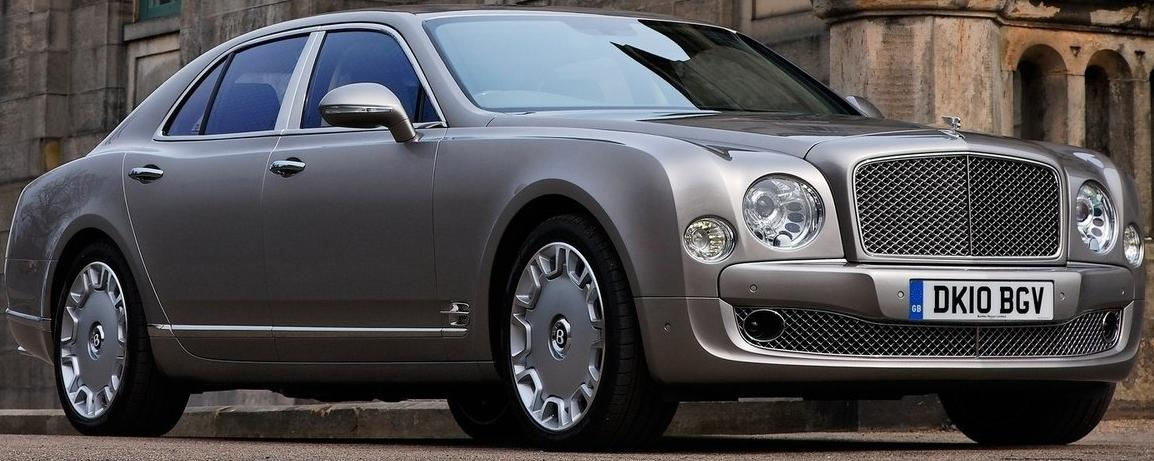front_view: (673, 137, 1143, 380)
headlight: (680, 169, 833, 268)
side_glass: (150, 22, 453, 143)
